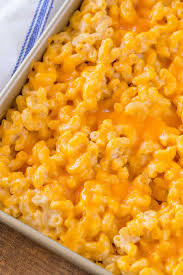macncheese: (68, 12, 166, 254)
